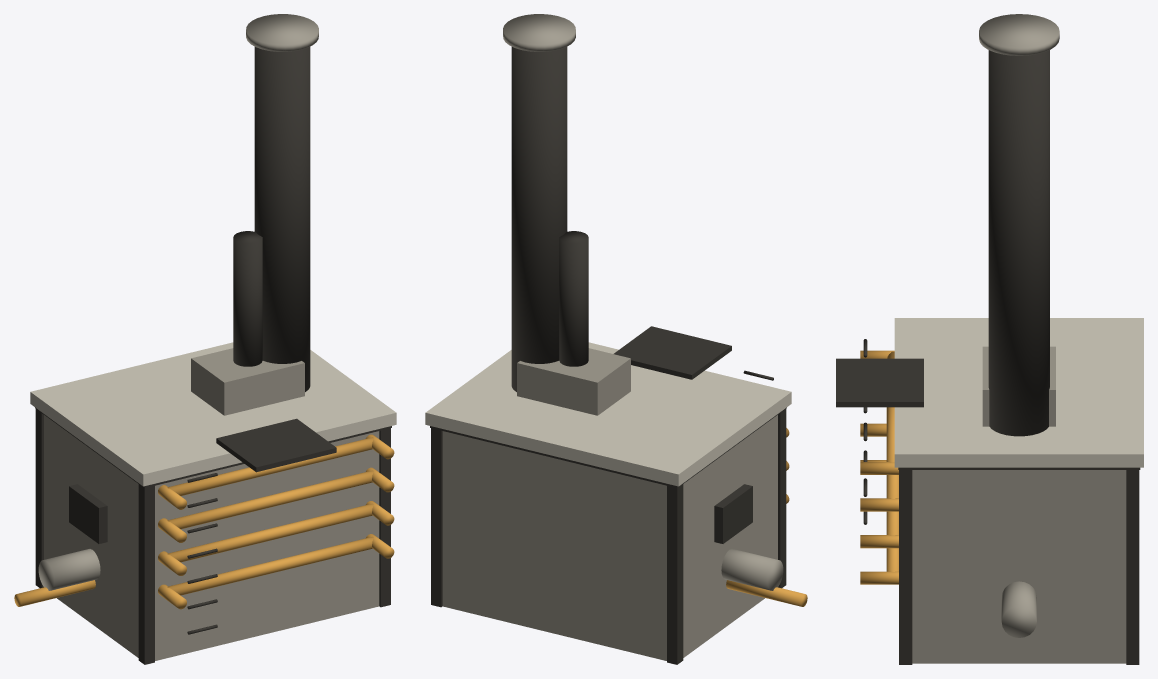
The model's file is heater.obj.
3 renders of one model, left to right at view 1: azimuth 30°, elevation 25°; view 2: azimuth 150°, elevation 25°; view 3: azimuth 270°, elevation 25°, orthographic. The views are drawn at different scales.
Visible parts, largest first — view 1: heater__Steel, heater__DarkSteel, heater__LightSteel, heater__Amber; view 2: heater__Steel, heater__DarkSteel, heater__LightSteel, heater__Amber; view 3: heater__Steel, heater__DarkSteel, heater__LightSteel, heater__Amber.
Part boxes in pixels (<box>): heater__Steel: <box>38,14,379,660</box>; heater__DarkSteel: <box>35,47,391,664</box>; heater__LightSteel: <box>30,342,396,486</box>; heater__Amber: <box>14,434,394,609</box>; heater__Steel: <box>442,14,783,660</box>; heater__DarkSteel: <box>430,47,786,664</box>; heater__LightSteel: <box>425,342,791,486</box>; heater__Amber: <box>726,428,807,606</box>; heater__Steel: <box>912,14,1126,663</box>; heater__DarkSteel: <box>836,50,1140,664</box>; heater__LightSteel: <box>894,318,1143,467</box>; heater__Amber: <box>860,350,898,584</box>.
Bounding box in the file's own units: 6.3 × 9.11 × 4.2.
